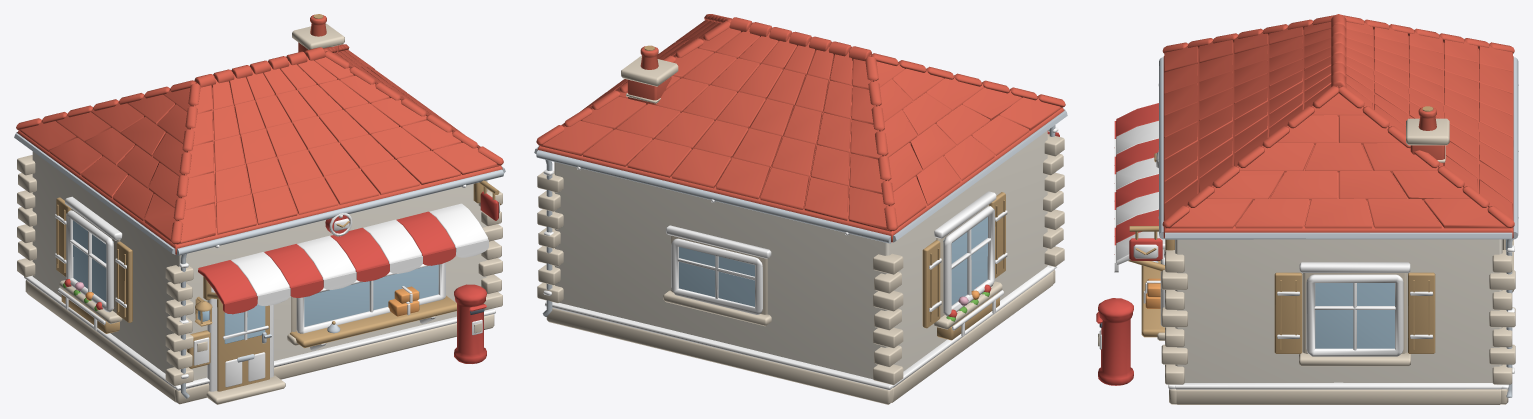
The model's file is fine_post.glb.
3 views of the same model, side by side, from view 1: azimuth 30°, elevation 25°; view 2: azimuth 150°, elevation 25°; view 3: azimuth 270°, elevation 25° (orthographic). The views are drawn at different scales.
Visible parts, largest first — view 1: fine_post_structure; view 2: fine_post_structure; view 3: fine_post_structure.
Part boxes in pixels (box(x1,y1,x2,y2)): fine_post_structure: box(14, 14, 505, 404); fine_post_structure: box(534, 14, 1067, 404); fine_post_structure: box(1096, 14, 1518, 404).
Bounding box in the file's own units: 6.61 × 4.6 × 6.44.
